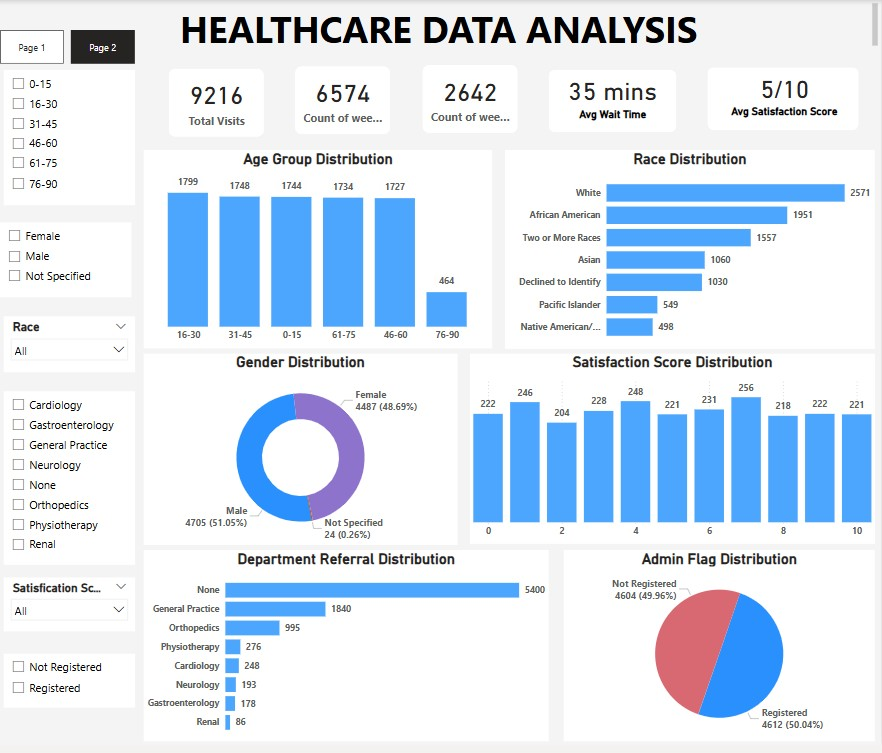

Layout of this report page (visuals, bound fields, positions):
{"tool":"powerbi","page":{"name":"Page 2","canvas":[1282,1086],"ordinal":1},"visuals":[{"type":"shape","box":[614.3,95.2,138.6,99.1],"z":0,"group":"g6"},{"type":"shape","box":[430,96.7,138.6,99.1],"z":0,"group":"g7"},{"type":"shape","box":[1030,98.9,220,91.1],"z":0,"group":"g2"},{"type":"shape","box":[245.7,99.5,138.6,99.1],"z":0,"group":"g8"},{"type":"shape","box":[798.6,101.8,185.7,90.5],"z":0,"group":"g1"},{"type":"slicer","fields":{"Values":["patient table.patient_race"]},"box":[5.5,460.4,191.1,81.9],"z":8000},{"type":"slicer","fields":{"Values":["patient table.age_group"]},"box":[5.5,101.9,191.1,196.5],"z":9000},{"type":"slicer","fields":{"Values":["patient table.patient_gender"]},"box":[0,323.9,191.1,109.2],"z":10000},{"type":"slicer","fields":{"Values":["activity table.department_referral"]},"box":[5.5,569.6,191.1,252.9],"z":11000},{"type":"slicer","fields":{"Values":["activity table.satisfication_score"]},"box":[5.5,840.7,191.1,78.2],"z":12000},{"type":"lineStackedColumnComboChart","title":"Age Group Distribution","fields":{"Category":["patient table.age_bucket"],"Y":["CountNonNull(patient table.age_bucket)"]},"box":[208.7,218.8,507.2,288.4],"z":13000},{"type":"clusteredBarChart","title":"Race Distribution","fields":{"Category":["patient table.patient_race"],"Y":["CountNonNull(patient table.patient_race)"]},"box":[735.2,218.4,538.6,289.3],"z":14000},{"type":"donutChart","title":"Gender Distribution","fields":{"Category":["patient table.patient_gender"],"Y":["CountNonNull(patient table.patient_gender)"]},"box":[209.3,515,456.7,278.4],"z":15000},{"type":"clusteredBarChart","title":"Department Referral Distribution","fields":{"Category":["activity table.department_referral"],"Y":["CountNonNull(activity table.department_referral)"]},"box":[209.3,800.7,589.6,278.4],"z":16000},{"type":"columnChart","title":"Satisfaction Score Distribution","fields":{"Category":["activity table.satisfication_score"],"Y":["CountNonNull(activity table.satisfication_score)"]},"box":[684.2,515,589.6,276.6],"z":17000},{"type":"pieChart","title":"Admin Flag Distribution","fields":{"Category":["activity table.patient_admin_flag"],"Y":["CountNonNull(activity table.patient_admin_flag)"]},"box":[820.7,800.7,453.1,278.4],"z":18000},{"type":"card","fields":{"Values":["date_time table.Avg Satisfaction Score"]},"box":[1056.5,91.4,169.6,88.7],"z":19000,"group":"g2"},{"type":"card","fields":{"Values":["date_time table.Avg Wait Time"]},"box":[821,94.3,143.2,88.1],"z":19000,"group":"g1"},{"type":"slicer","fields":{"Values":["activity table.patient_admin_flag"]},"box":[5.5,951.7,191.1,78.2],"z":19000},{"type":"textbox","box":[1.8,0,1281.1,76.4],"z":19001},{"type":"group","id":"g1","title":"Group 1","box":[798.6,94.3,185.7,98.6],"z":19002},{"type":"group","id":"g2","title":"Group 1","box":[1030,91.4,220,100],"z":19003},{"type":"group","id":"g3","title":"Group 2","box":[245.7,95.7,138.6,102.9],"z":19004},{"type":"group","id":"g4","title":"Group 2","box":[430,92.9,138.6,102.9],"z":19005},{"type":"group","id":"g5","title":"Group 2","box":[614.3,91.4,138.6,102.9],"z":19006},{"type":"pageNavigator","box":[0,43.7,196.5,49.1],"z":19007},{"type":"card","fields":{"Values":["CountNonNull(date_time table.weekday/weekend)"]},"box":[622.3,91.4,125.2,100.7],"z":24000,"group":"g6"},{"type":"card","fields":{"Values":["CountNonNull(date_time table.weekday/weekend)"]},"box":[438,92.9,125.2,100.7],"z":24000,"group":"g7"},{"type":"card","fields":{"Values":["Count(patient table.patient_id)"]},"box":[253.7,95.7,125.2,100.7],"z":24000,"group":"g8"},{"type":"group","id":"g6","title":"Group 3","box":[614.3,91.4,138.6,102.9],"z":24001,"group":"g5"},{"type":"group","id":"g7","title":"Group 3","box":[430,92.9,138.6,102.9],"z":24001,"group":"g4"},{"type":"group","id":"g8","title":"Group 3","box":[245.7,95.7,138.6,102.9],"z":24001,"group":"g3"}]}

Visuals, with their boxes on the page's 1282x1086 design canvas (x1, y1, x2, y2). These are canvas units, not pixel positions in the 882x753 screenshot, which may show the page scaled, cropped or inside an application window:
shape: 614:95:753:194
shape: 430:97:569:196
shape: 1030:99:1250:190
shape: 246:100:384:199
shape: 799:102:984:192
slicer - patient table.patient_race: 6:460:197:542
slicer - patient table.age_group: 6:102:197:298
slicer - patient table.patient_gender: 0:324:191:433
slicer - activity table.department_referral: 6:570:197:822
slicer - activity table.satisfication_score: 6:841:197:919
"Age Group Distribution" lineStackedColumnComboChart: 209:219:716:507
"Race Distribution" clusteredBarChart: 735:218:1274:508
"Gender Distribution" donutChart: 209:515:666:793
"Department Referral Distribution" clusteredBarChart: 209:801:799:1079
"Satisfaction Score Distribution" columnChart: 684:515:1274:792
"Admin Flag Distribution" pieChart: 821:801:1274:1079
card - date_time table.Avg Satisfaction Score: 1056:91:1226:180
card - date_time table.Avg Wait Time: 821:94:964:182
slicer - activity table.patient_admin_flag: 6:952:197:1030
textbox: 2:0:1283:76
"Group 1" group: 799:94:984:193
"Group 1" group: 1030:91:1250:191
"Group 2" group: 246:96:384:199
"Group 2" group: 430:93:569:196
"Group 2" group: 614:91:753:194
pageNavigator: 0:44:196:93
card - CountNonNull(date_time table.weekday/weekend): 622:91:748:192
card - CountNonNull(date_time table.weekday/weekend): 438:93:563:194
card - Count(patient table.patient_id): 254:96:379:196
"Group 3" group: 614:91:753:194
"Group 3" group: 430:93:569:196
"Group 3" group: 246:96:384:199
